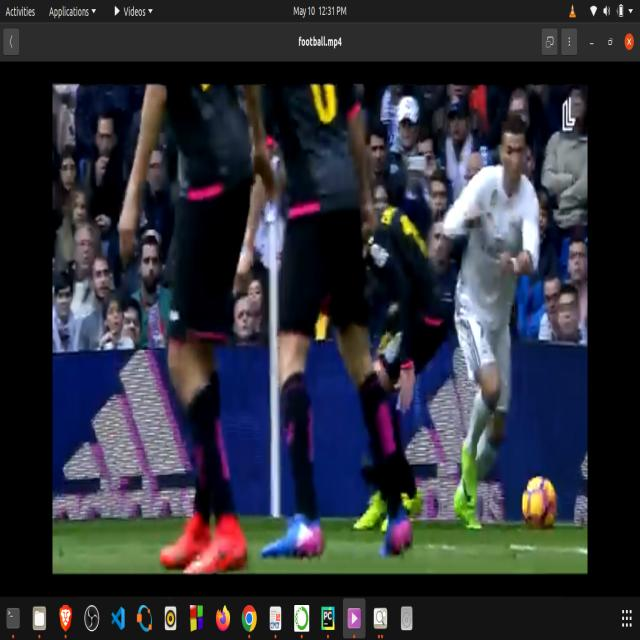Ball: (518, 460, 564, 549)
football-players: (108, 82, 269, 568), (258, 81, 418, 565), (432, 105, 542, 535), (359, 185, 443, 546)
